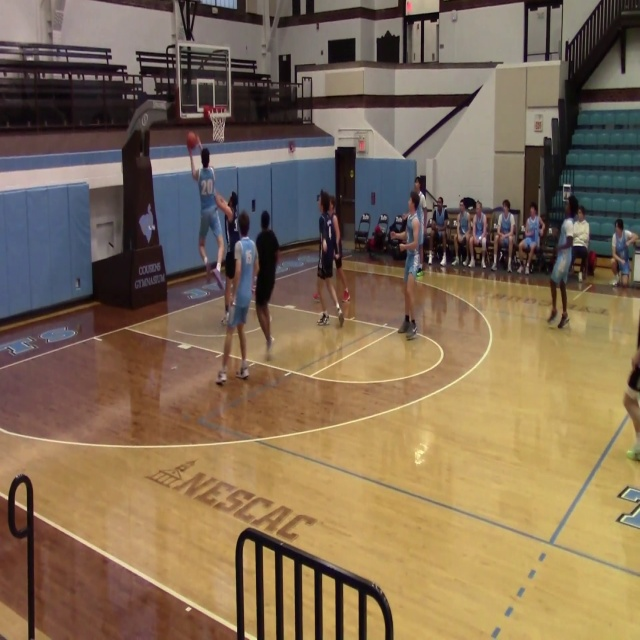Basketball: (186, 131, 198, 149), (342, 289, 350, 302)
